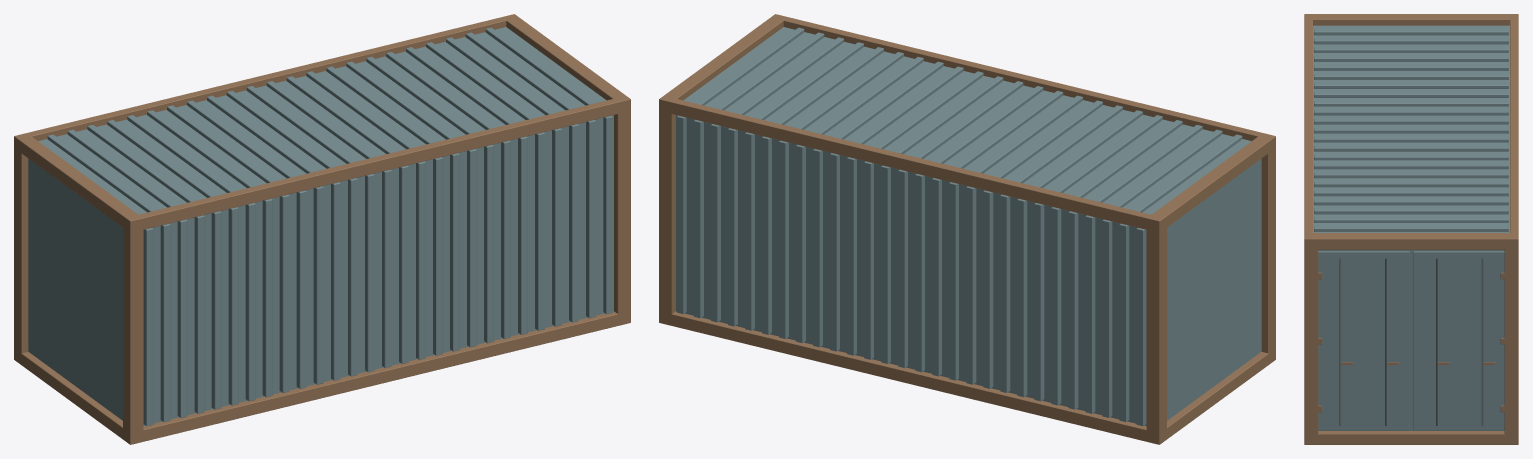
File: SM_LS_Container.fbx
3 views of the same model, side by side, from view 1: azimuth 30°, elevation 25°; view 2: azimuth 150°, elevation 25°; view 3: azimuth 270°, elevation 25° (orthographic). The views are drawn at different scales.
Parts seen in each view (by area): view 1: SM_LS_Container; view 2: SM_LS_Container; view 3: SM_LS_Container.
Boxes of the visible parts, bbox=[...] form: SM_LS_Container: bbox=[14, 14, 630, 444]; SM_LS_Container: bbox=[659, 14, 1275, 444]; SM_LS_Container: bbox=[1304, 14, 1518, 444].
Size of what is drawn, in the model's own units: 6.06 by 2.44 by 2.59.
